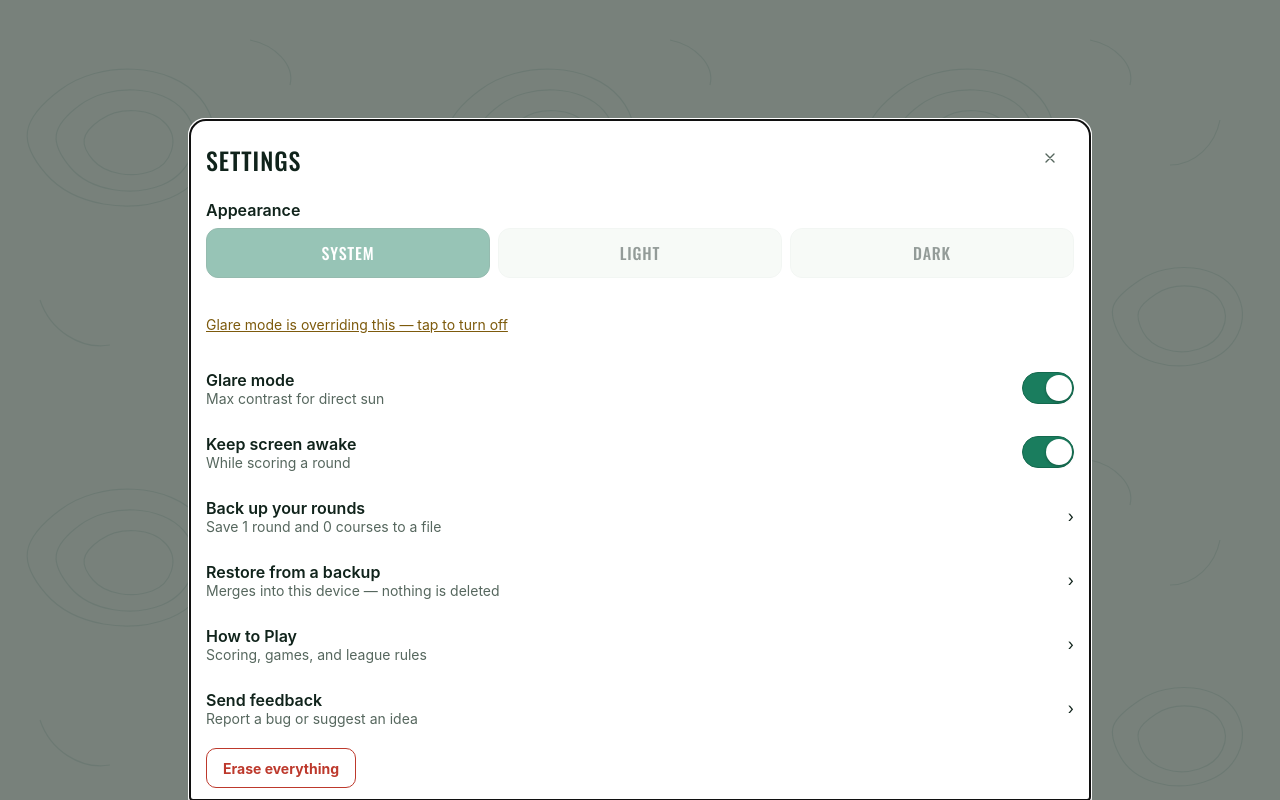
Scenario: Erase everything › says what goes on the first tap, and still takes nothing
This screenshot has width=1280, height=800.
Click the button "Erase everything".
click(281, 768)  # box [206, 748, 356, 788]
(page scrolled)
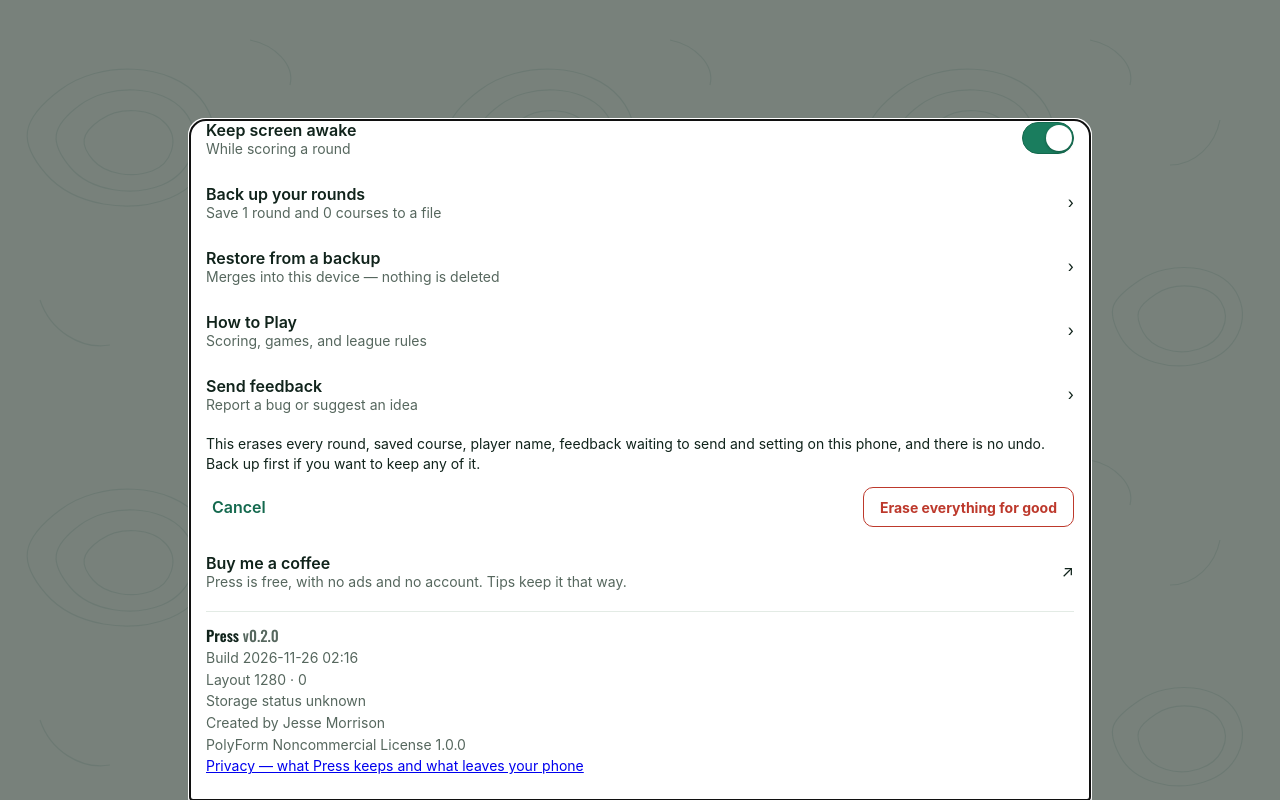
expect the message shows "round": met, box [206, 435, 1045, 472]
expect the message shows "saved course": met, box [206, 435, 1045, 472]
expect the message shows "player name": met, box [206, 435, 1045, 472]
